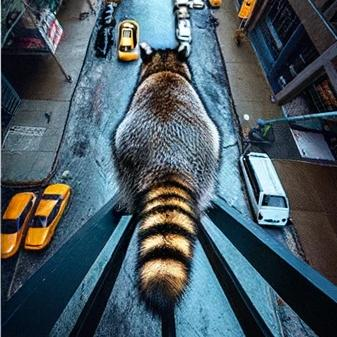raccoon: (103, 34, 229, 329)
